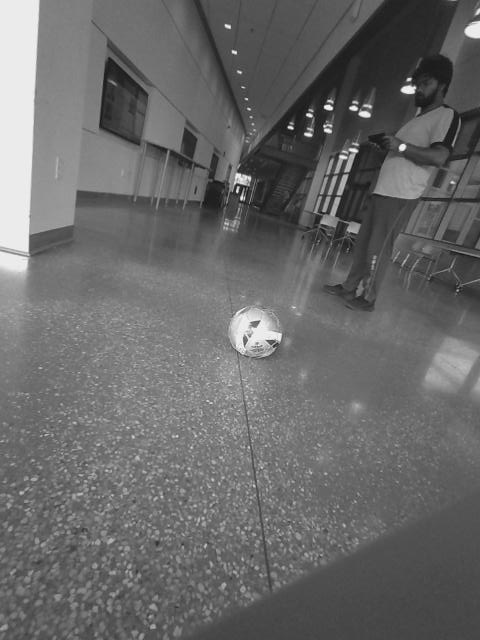ball: (223, 302, 286, 362)
